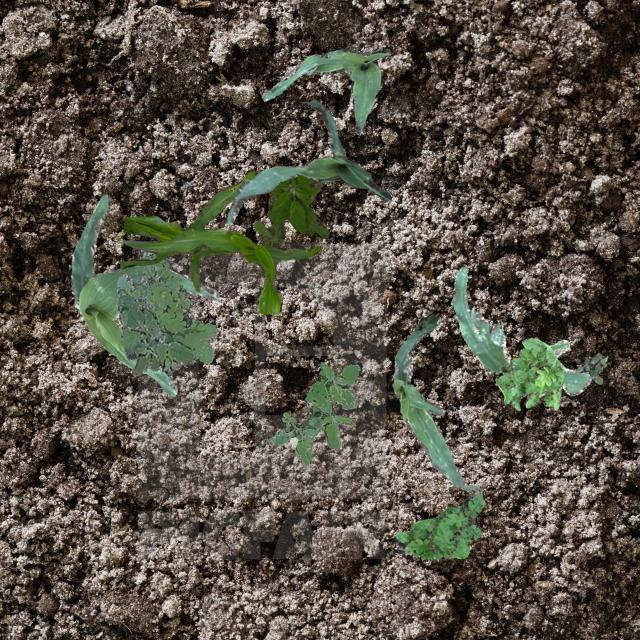crop: (70, 194, 218, 396), (118, 168, 322, 314), (227, 98, 390, 222), (450, 266, 590, 394), (392, 314, 478, 491), (260, 48, 390, 134)
weed: (115, 250, 218, 362), (268, 361, 358, 466), (116, 288, 194, 376), (394, 488, 484, 558), (254, 174, 328, 246), (494, 336, 562, 411), (576, 352, 606, 384)
